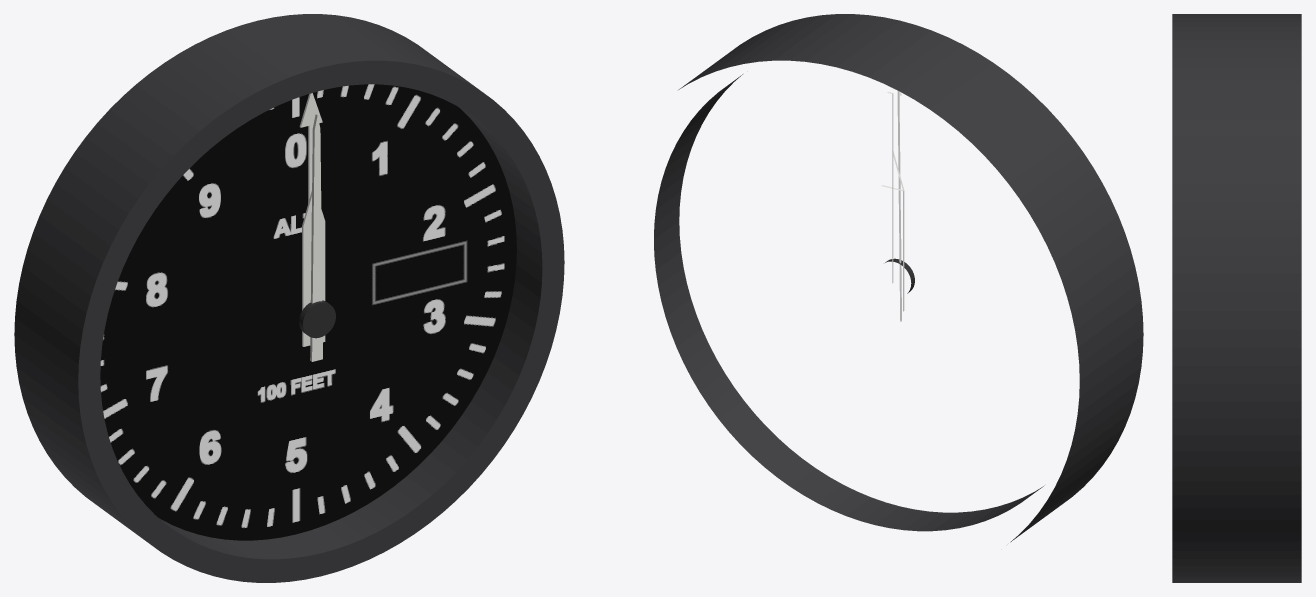
File: altimeter.glb
The picture shows the model from 3 angles, left to right: view 1: azimuth 30°, elevation 25°; view 2: azimuth 150°, elevation 25°; view 3: azimuth 270°, elevation 25°; orthographic projection.
Parts seen in each view (by area): view 1: ALT_Face, ALT_Bezel, ALT_Hand100, ALT_Hand1000, ALT_Hub, ALT_Hand10000; view 2: ALT_Bezel; view 3: ALT_Bezel.
Boxes of the visible parts, left/top/right/bottom form: ALT_Face: left=100, top=84, right=516, bottom=540; ALT_Bezel: left=14, top=14, right=564, bottom=582; ALT_Hand100: left=310, top=114, right=322, bottom=361; ALT_Hand1000: left=302, top=191, right=325, bottom=346; ALT_Hub: left=299, top=300, right=335, bottom=338; ALT_Hand10000: left=299, top=93, right=322, bottom=203; ALT_Bezel: left=654, top=14, right=1143, bottom=542; ALT_Bezel: left=1172, top=14, right=1301, bottom=582.
Bounding box in the file's own units: 2.2 × 2.2 × 0.5.
4 materials, 1 textured.
